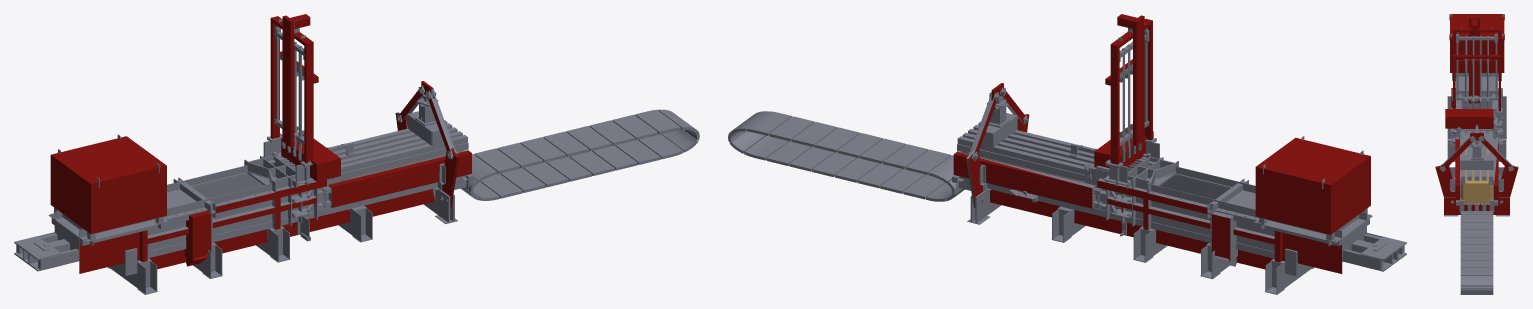
Rendered from GLBAnimacionCompleta_MaquinayFardo_IMABE.glb.
3 views of the same model, side by side, from view 1: azimuth 30°, elevation 25°; view 2: azimuth 150°, elevation 25°; view 3: azimuth 270°, elevation 25° (orthographic). The views are drawn at different scales.
Visible parts, largest first — view 1: MaquinaImabe, Banda_Animada; view 2: MaquinaImabe, Banda_Animada; view 3: MaquinaImabe, Banda_Animada, Fardo.
Part boxes in pixels (x1,y1,x2,y2): MaquinaImabe: (14, 14, 473, 294); Banda_Animada: (461, 109, 699, 200); MaquinaImabe: (952, 14, 1406, 294); Banda_Animada: (728, 111, 964, 201); MaquinaImabe: (1435, 14, 1518, 216); Banda_Animada: (1460, 211, 1493, 294); Fardo: (1460, 148, 1493, 203).
Bounding box in the file's own units: 12.71 × 4.07 × 2.05.
